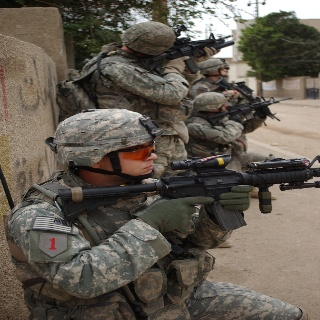rifle: (54, 147, 319, 235), (149, 31, 237, 76), (203, 97, 294, 126)
